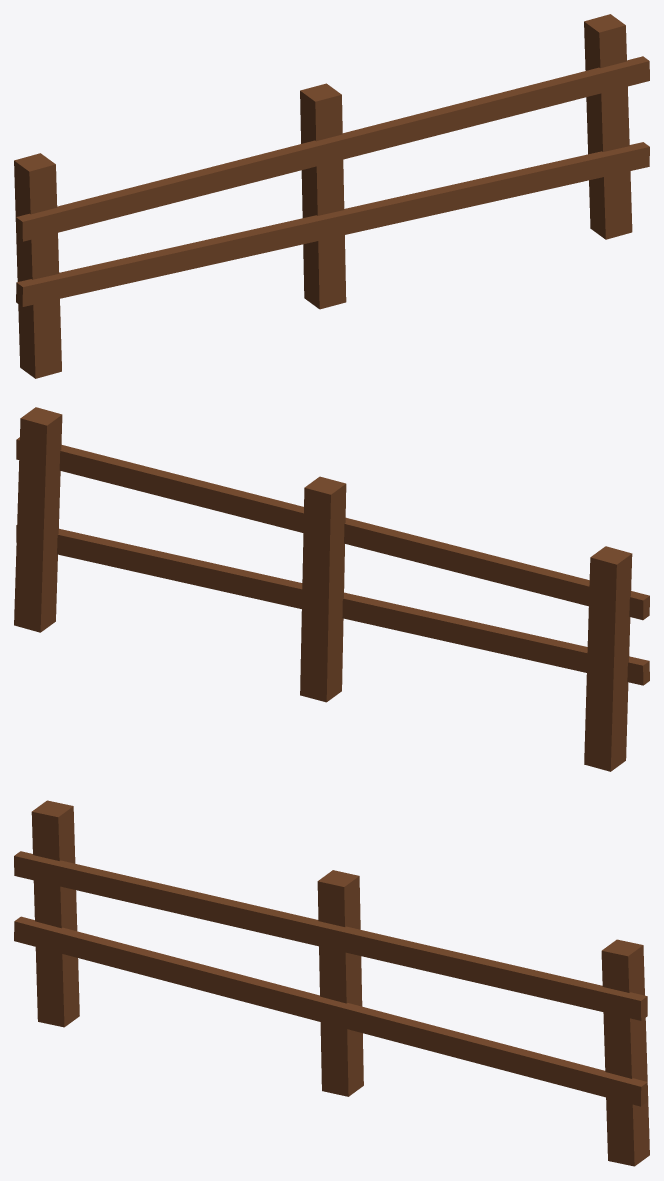
File: valla.glb
The picture shows the model from 3 angles, top to bottom: view 1: azimuth 30°, elevation 25°; view 2: azimuth 150°, elevation 25°; view 3: azimuth 330°, elevation 25°; orthographic projection.
Visible parts, largest first — view 1: travesano_2, travesano_1, poste_1, poste_2, poste_3; view 2: travesano_2, travesano_1, poste_2, poste_1, poste_3; view 3: travesano_1, travesano_2, poste_3, poste_1, poste_2.
Part boxes in pixels (x1,y1,x2,y2): travesano_2: (16,56,649,241); travesano_1: (16,142,649,306); poste_1: (14,153,61,378); poste_2: (300,83,346,309); poste_3: (584,14,632,239); travesano_2: (16,437,649,620); travesano_1: (16,525,649,685); poste_2: (300,476,346,702); poste_1: (584,546,632,771); poste_3: (14,407,62,632); travesano_1: (14,916,647,1106); travesano_2: (14,851,647,1020); poste_3: (601,939,649,1166); poste_1: (31,800,79,1027); poste_2: (317,870,363,1096).
Bounding box in the file's own units: 3.3 × 1.05 × 0.19.
